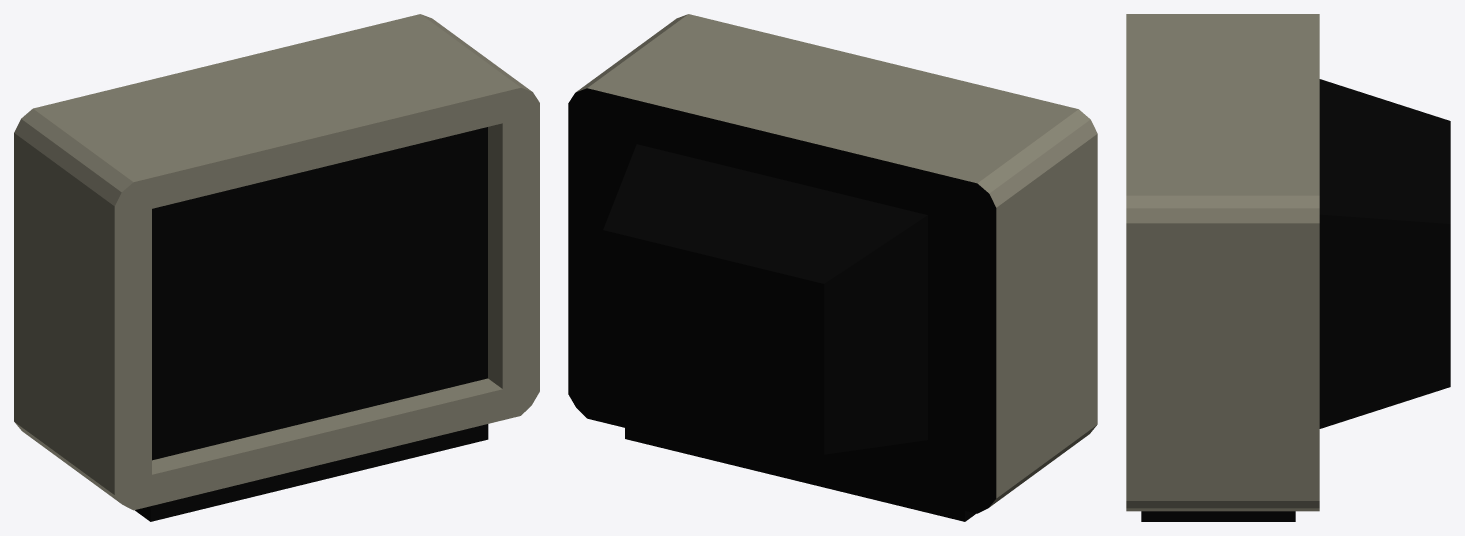
The model's file is television.glb.
3 renders of one model, left to right at view 1: azimuth 30°, elevation 25°; view 2: azimuth 150°, elevation 25°; view 3: azimuth 270°, elevation 25°, orthographic. The views are drawn at different scales.
Parts seen in each view (by area): view 1: television; view 2: television; view 3: television.
Boxes of the visible parts, x1,y1,x2,y2 form: television: (14,14,539,521); television: (568,14,1097,521); television: (1126,14,1450,521).
Size of the model in its own units: 0.6778 by 0.5356 by 0.4663.
Materials: 1 (1 with a texture image).
